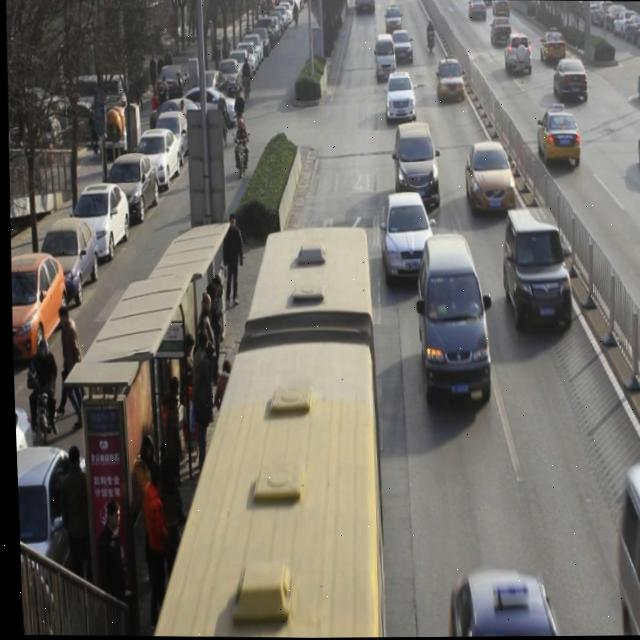car: (499, 208, 572, 329), (377, 192, 432, 280), (390, 121, 439, 209), (462, 143, 515, 214), (535, 106, 580, 165), (384, 72, 416, 124), (552, 57, 587, 102), (435, 59, 464, 102), (503, 34, 532, 74), (539, 30, 566, 65), (392, 31, 412, 66), (489, 18, 511, 46), (383, 5, 402, 36)
truck: (410, 234, 491, 399), (373, 36, 396, 81)
van: (134, 224, 383, 639)
